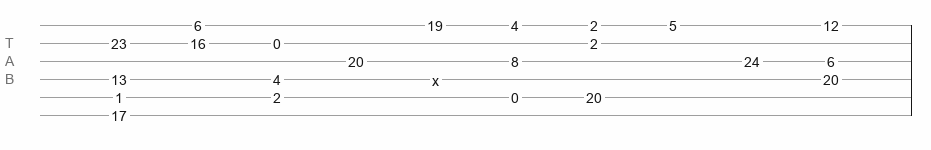0: (273, 36, 281, 46), (511, 90, 519, 100)
1: (115, 90, 123, 100)
12: (823, 18, 839, 28)
13: (111, 72, 127, 82)
16: (190, 36, 206, 46)
17: (111, 108, 127, 118)
19: (427, 18, 443, 28)
2: (273, 90, 281, 100), (590, 18, 598, 28), (590, 36, 598, 46)
20: (348, 54, 364, 64), (586, 90, 602, 100), (823, 72, 839, 82)
23: (111, 36, 127, 46)
24: (744, 54, 760, 64)
4: (273, 72, 281, 82), (511, 18, 519, 28)
5: (669, 18, 677, 28)
6: (194, 18, 202, 28), (827, 54, 835, 64)
8: (511, 54, 519, 64)
x: (432, 73, 439, 81)
